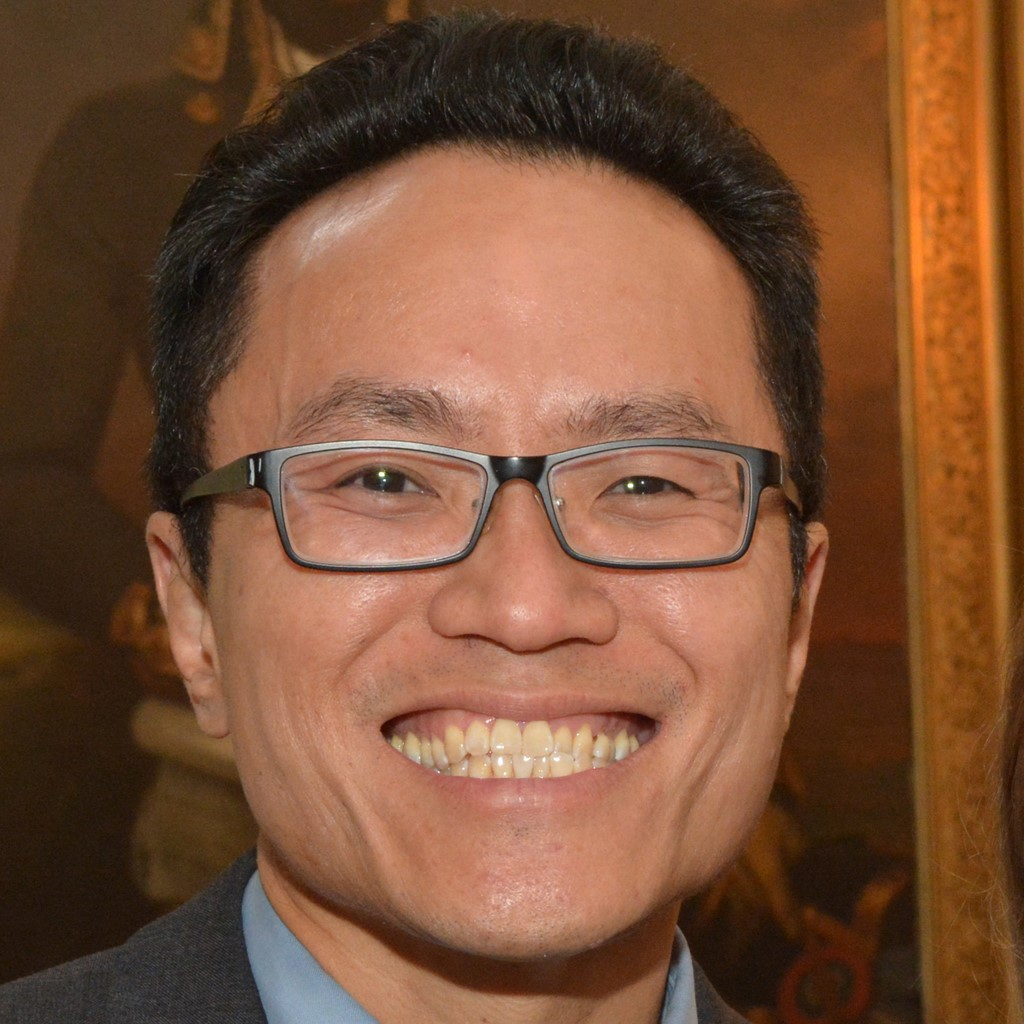sin_mascara: (211, 174, 811, 951)
